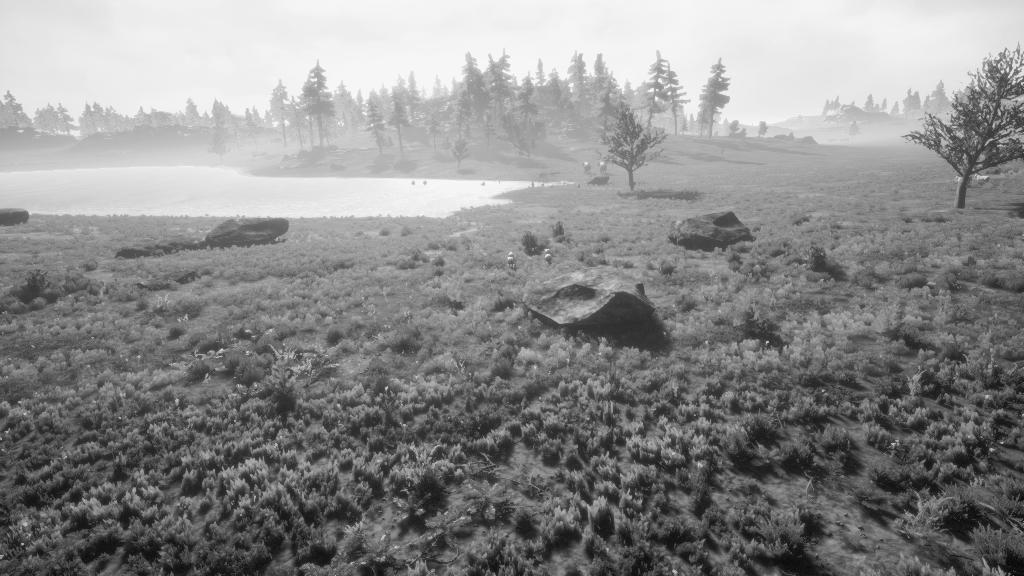Fire: (540, 173, 552, 186)
elephant: (579, 152, 597, 178), (596, 156, 613, 177)
pig: (537, 245, 560, 273), (504, 247, 523, 270)
